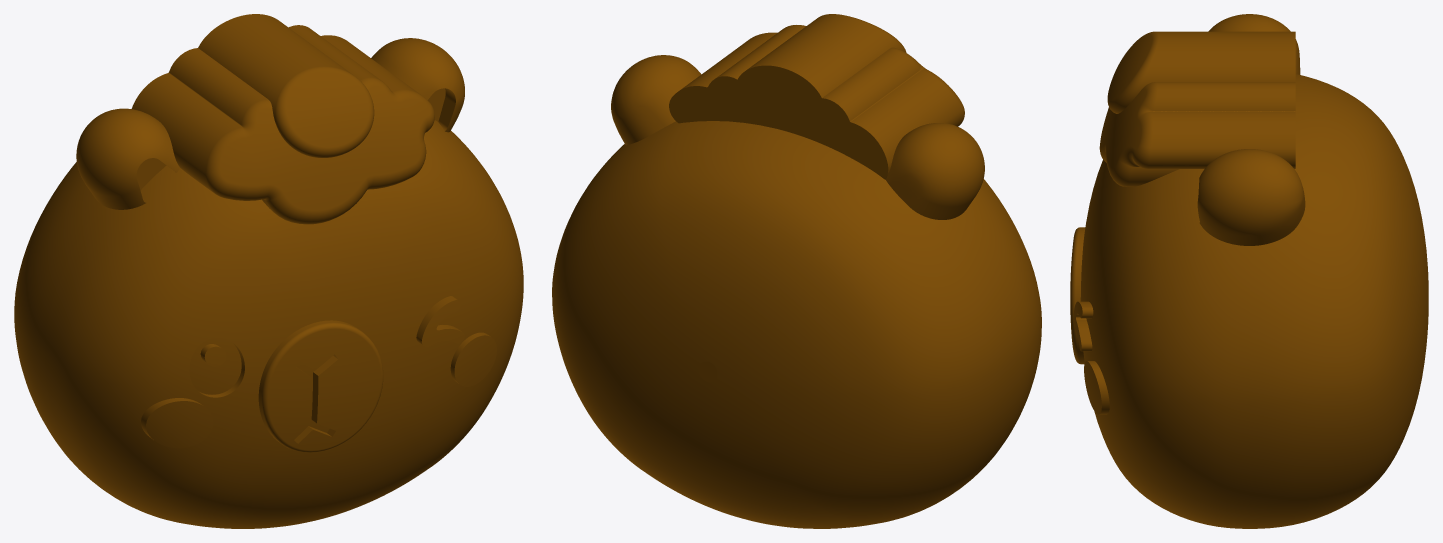
The model's file is bear.glb.
The picture shows the model from 3 angles, left to right: view 1: azimuth 30°, elevation 25°; view 2: azimuth 150°, elevation 25°; view 3: azimuth 270°, elevation 25°; orthographic projection. The views are drawn at different scales.
Parts seen in each view (by area): view 1: bear; view 2: bear; view 3: bear.
Boxes of the visible parts, bbox=[...] form: bear: bbox=[14, 14, 523, 528]; bear: bbox=[552, 14, 1041, 528]; bear: bbox=[1070, 14, 1428, 528].
Bounding box in the file's own units: 0.049 × 0.049 × 0.035.
